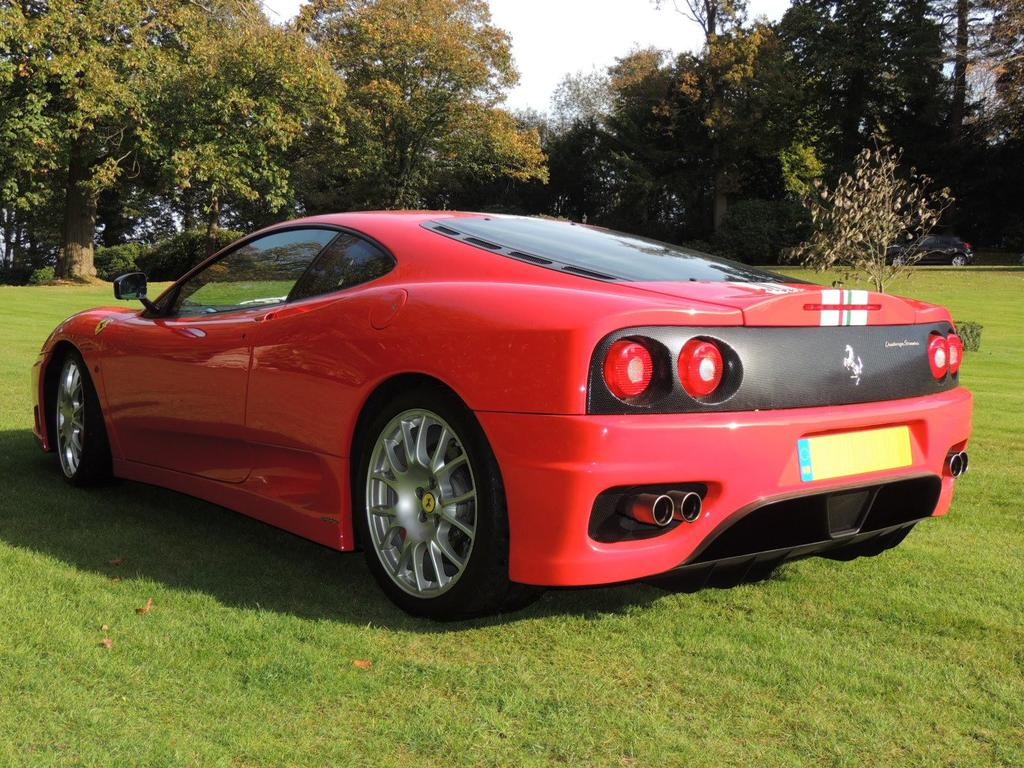Car: (40, 193, 960, 603)
